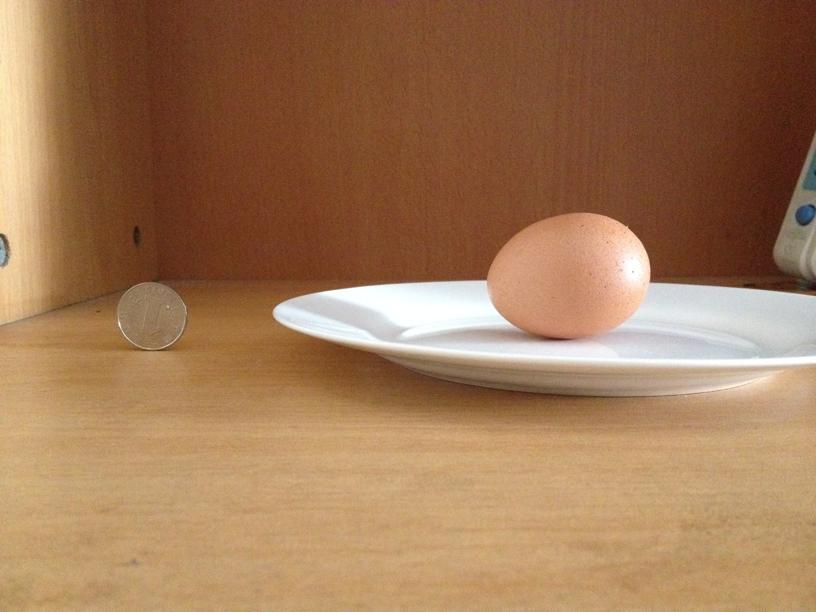coin: (115, 278, 186, 350)
egg: (483, 208, 650, 338)
